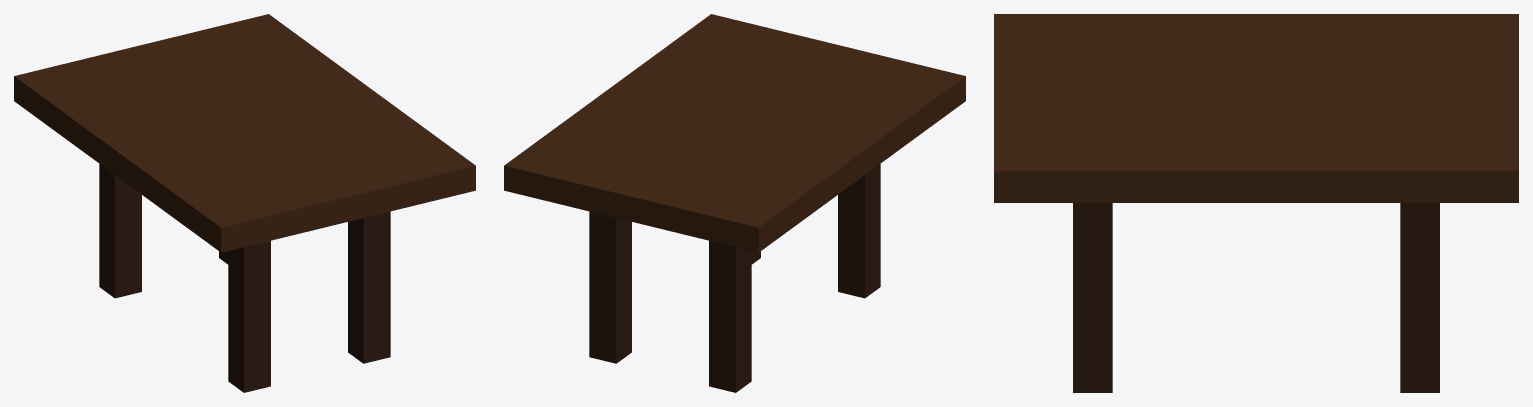
The model's file is Etagere1.fbx.
3 views of the same model, side by side, from view 1: azimuth 30°, elevation 25°; view 2: azimuth 150°, elevation 25°; view 3: azimuth 270°, elevation 25° (orthographic). The views are drawn at different scales.
Visible parts, largest first — view 1: Etagere1; view 2: Etagere1; view 3: Etagere1.
Part boxes in pixels (x1=…): Etagere1: x1=14, y1=14, x2=475, y2=392; Etagere1: x1=504, y1=14, x2=965, y2=392; Etagere1: x1=994, y1=14, x2=1518, y2=392.
Bounding box in the file's own units: 52.05 × 39.31 × 73.33.
